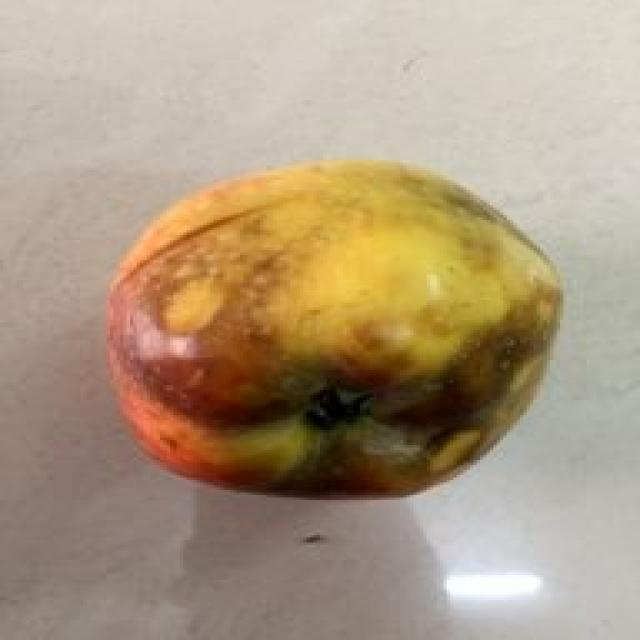Bad_Apple: (108, 161, 562, 497)
